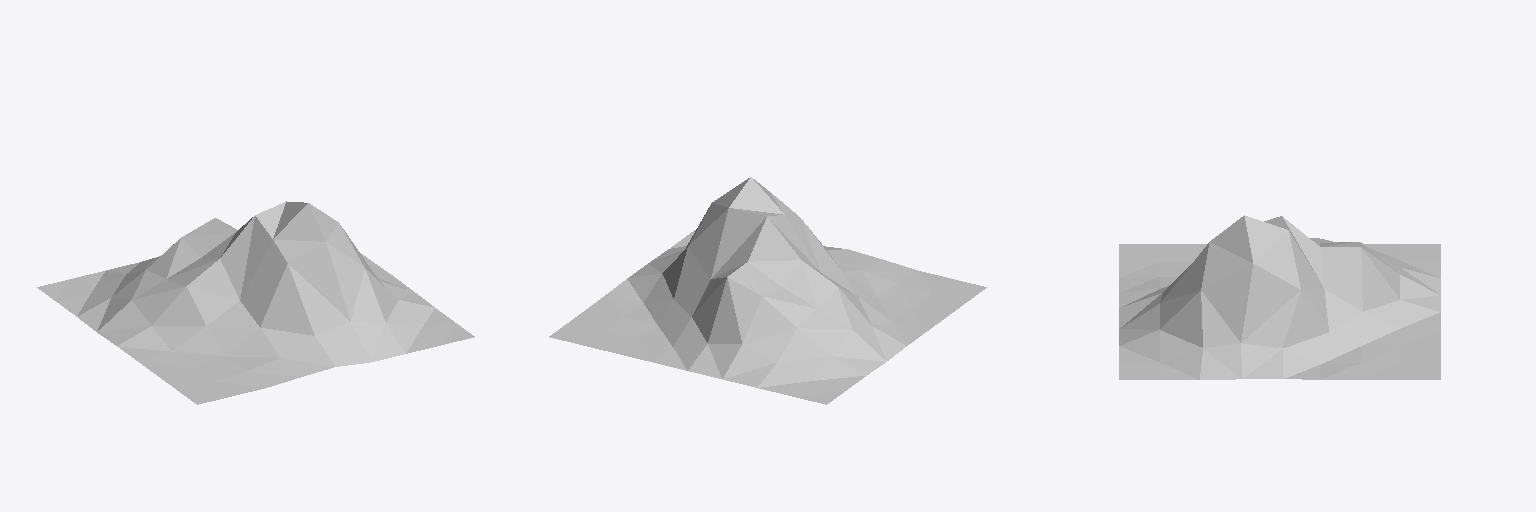
Rendered from mountain2.obj.
3 views of the same model, side by side, from view 1: azimuth 30°, elevation 25°; view 2: azimuth 150°, elevation 25°; view 3: azimuth 270°, elevation 25° (orthographic).
Parts seen in each view (by area): view 1: Plane; view 2: Plane; view 3: Plane.
Part boxes in pixels (x1,y1,x2,y2): Plane: (37,201,474,404); Plane: (549,177,986,404); Plane: (1119,215,1440,379).
Bounding box in the file's own units: 2.68 × 1.06 × 2.68.